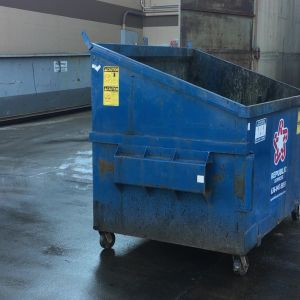Dumpster: (80, 28, 300, 280)
